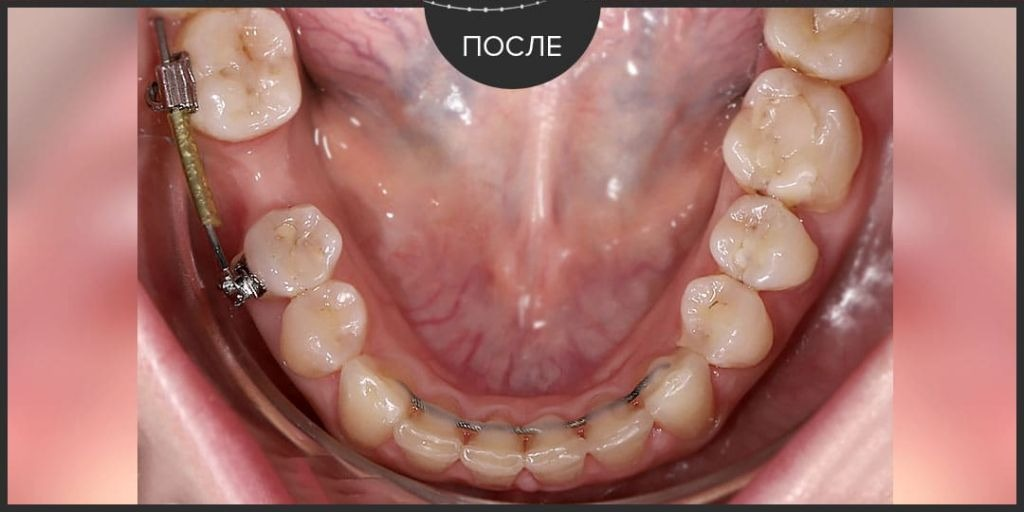LL1BC_decay: (674, 273, 778, 374)
LL1M_decay: (720, 70, 863, 198)
LL2BC_decay: (710, 198, 820, 288)
LLCI_decay: (523, 411, 589, 489)
LLC_decay: (639, 354, 717, 431)
LLLI_decay: (586, 395, 657, 468)
LR1BC_healthy: (280, 285, 365, 373)
LR2BC_decay: (245, 209, 339, 287)
LR2M_decay: (178, 16, 307, 132)
LRCI_decay: (464, 412, 525, 493)
LRC_healthy: (340, 363, 401, 441)
LRLI_decay: (399, 397, 462, 472)
